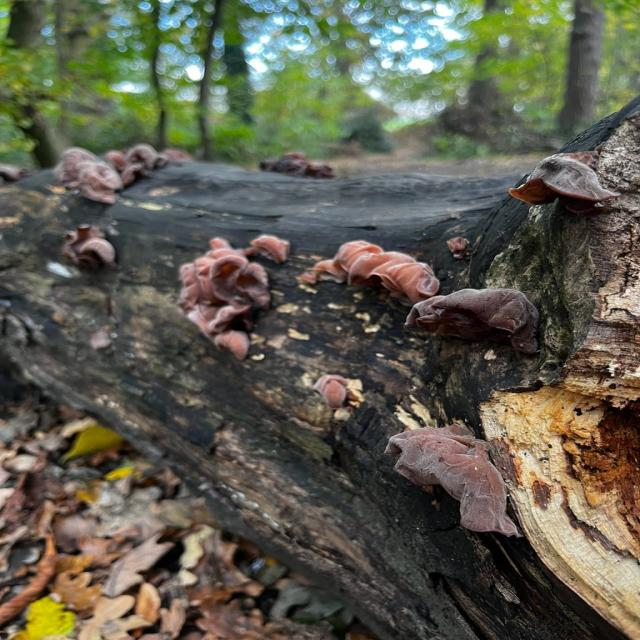Fase Muda: (442, 234, 472, 256)
Matang: (378, 421, 528, 541), (395, 287, 545, 359), (507, 149, 622, 213), (343, 251, 438, 304), (188, 304, 268, 366), (296, 239, 387, 292), (206, 252, 279, 314), (308, 368, 357, 412), (254, 232, 296, 267)
